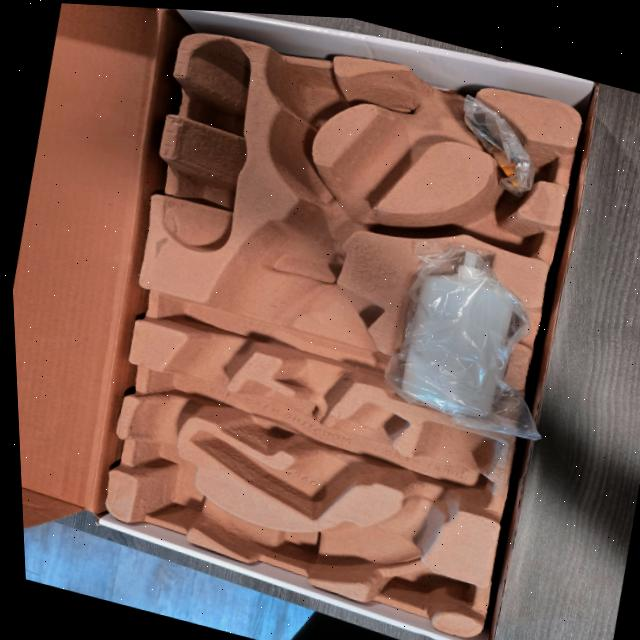1m: (130, 67, 505, 584)
2m: (190, 401, 409, 517)
3: (401, 249, 517, 418)
4m: (162, 37, 247, 251)
5m: (280, 73, 344, 126)
6: (459, 92, 533, 197)
7m: (438, 197, 544, 257)
